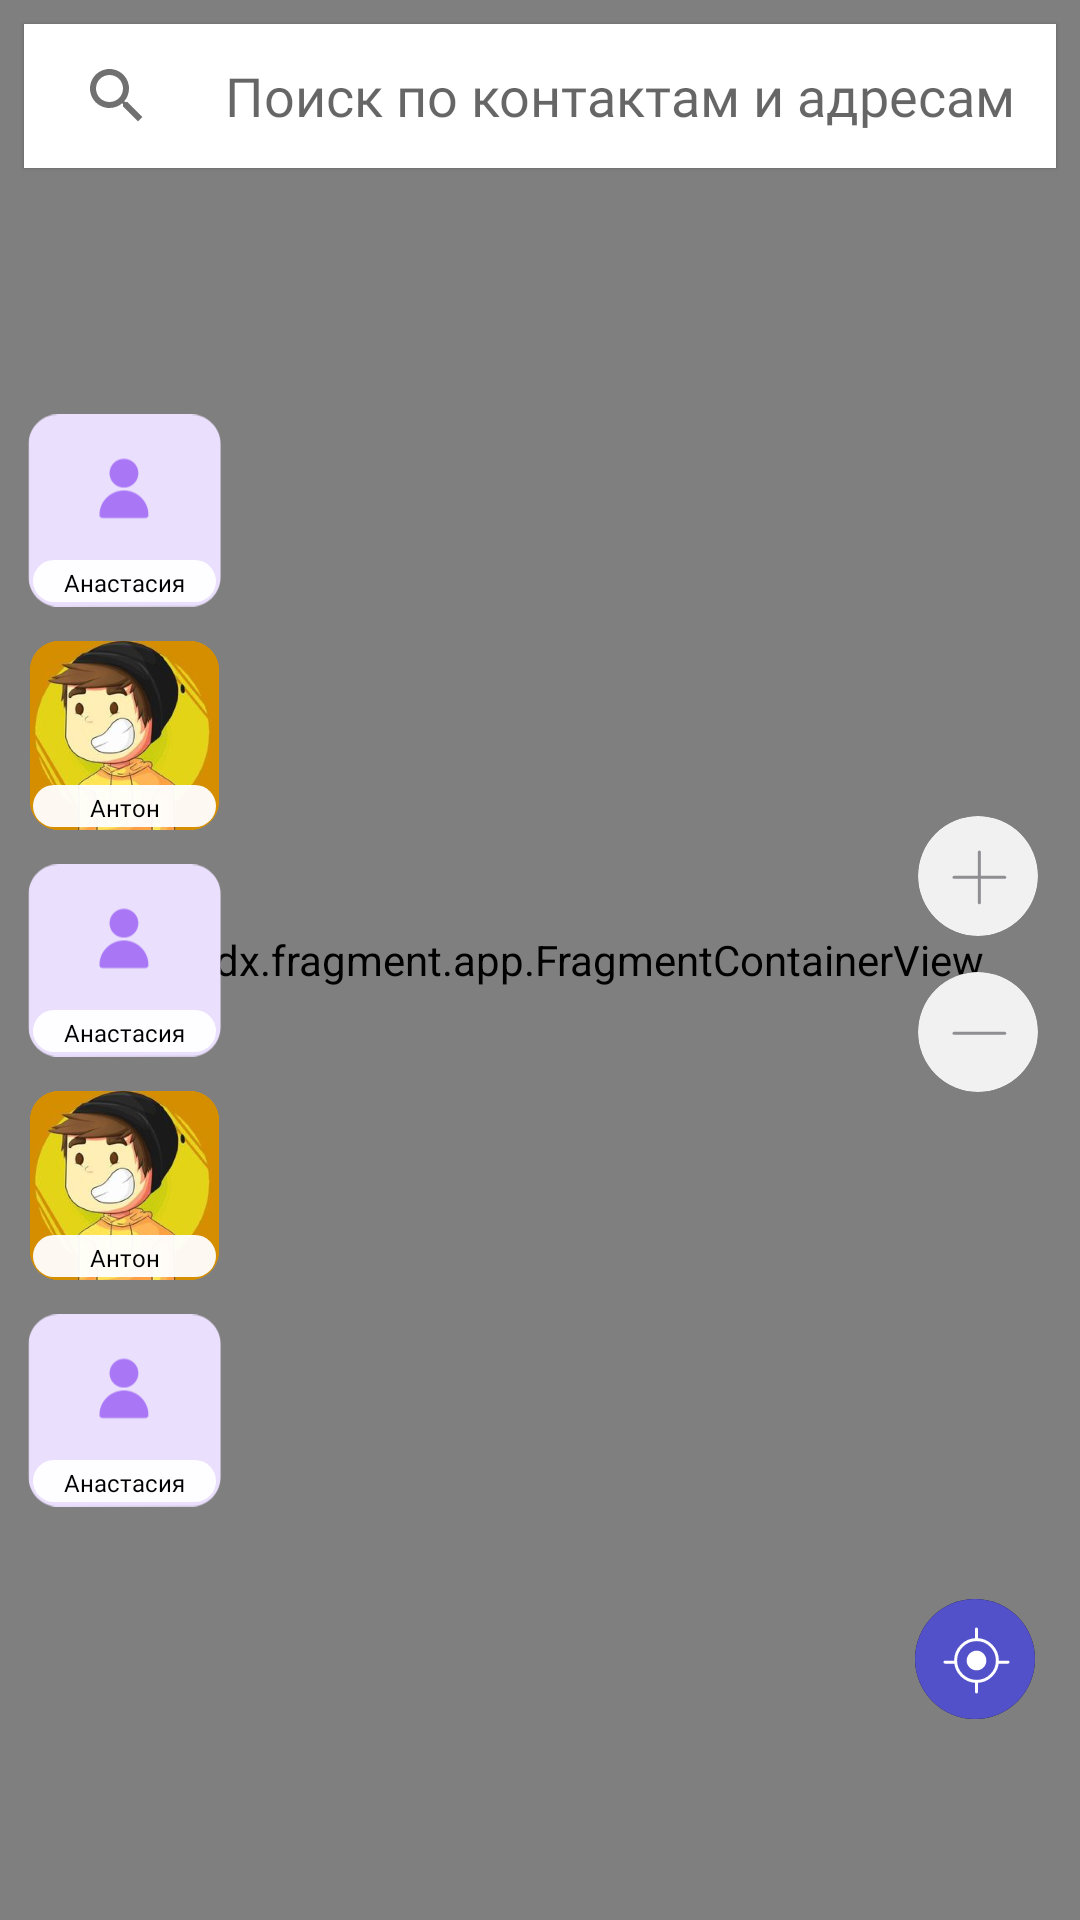

Where to tap for icons on this 1080px×1920px app screen, as (x,y):
geo: (975,1659)
minus: (969,1026)
plus: (978,883)
search: (116,95)
